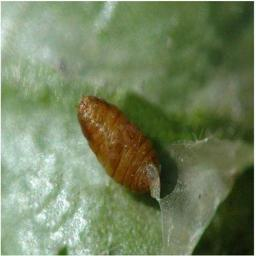liriomyza: (75, 95, 180, 205)
